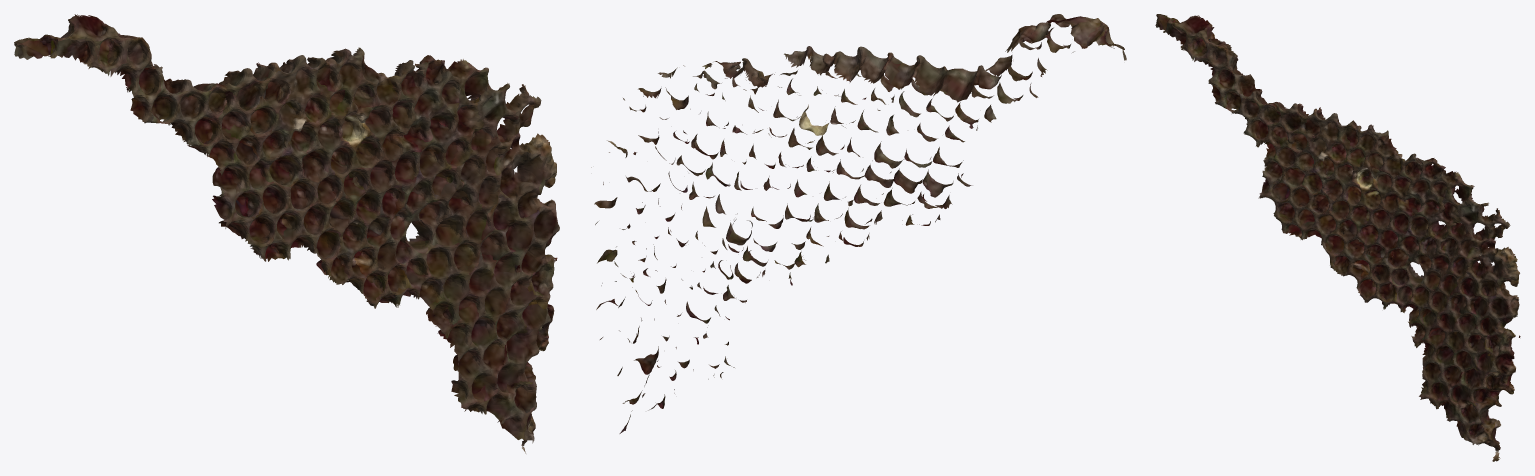
File: scan_comb.glb
The picture shows the model from 3 angles, left to right: view 1: azimuth 30°, elevation 25°; view 2: azimuth 150°, elevation 25°; view 3: azimuth 330°, elevation 25°; orthographic projection. The views are drawn at different scales.
Parts seen in each view (by area): view 1: CornerComb; view 2: CornerComb; view 3: CornerComb.
Boxes of the visible parts, x1,y1,x2,y2 form: CornerComb: (14, 14, 559, 453); CornerComb: (591, 14, 1126, 433); CornerComb: (1155, 14, 1520, 461).
Bounding box in the file's own units: 0.3026 × 0.2952 × 0.0324.
1 material, 1 textured.
